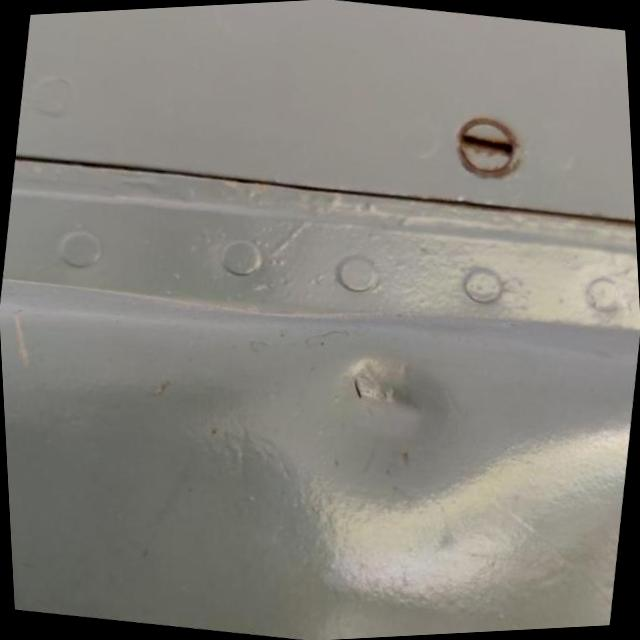dent: (338, 354, 462, 442)
